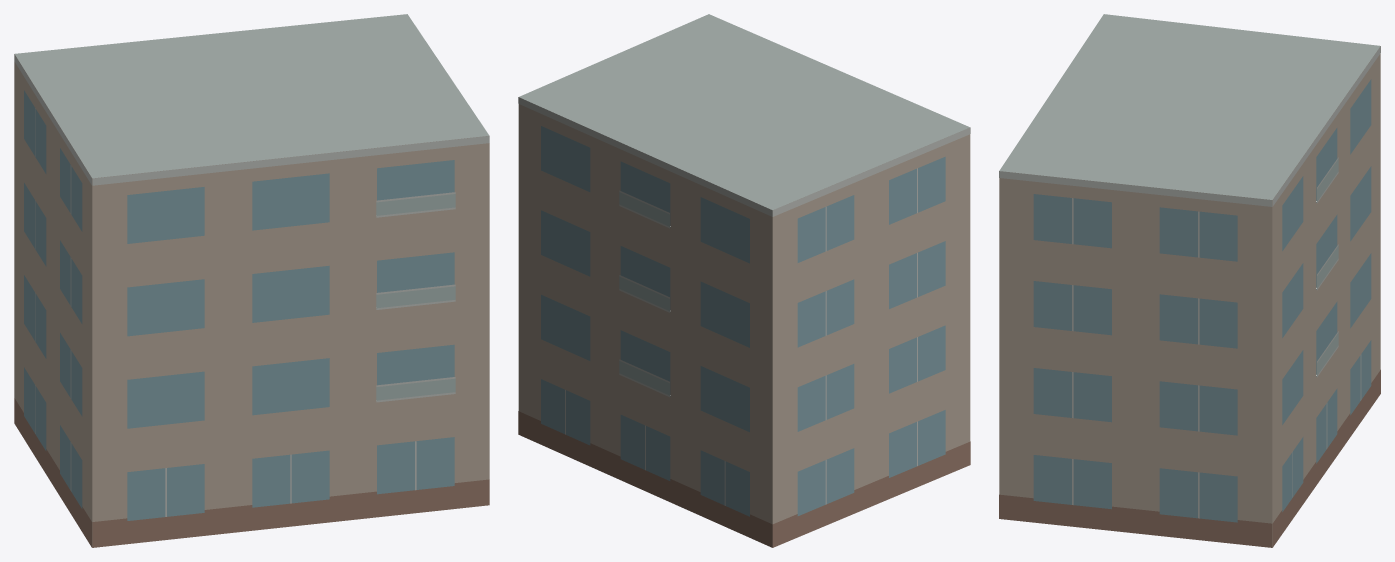
File: survey-upis-32527385.glb
3 views of the same model, side by side, from view 1: azimuth 30°, elevation 25°; view 2: azimuth 150°, elevation 25°; view 3: azimuth 270°, elevation 25° (orthographic). The views are drawn at different scales.
Parts seen in each view (by area): view 1: survey-upis-32527385.tmp; view 2: survey-upis-32527385.tmp; view 3: survey-upis-32527385.tmp.
Boxes of the visible parts, x1,y1,x2,y2 form: survey-upis-32527385.tmp: (14,14,489,547); survey-upis-32527385.tmp: (518,14,970,547); survey-upis-32527385.tmp: (999,14,1380,547).
Size of the model in its own units: 14 by 12.2 by 12.14.
